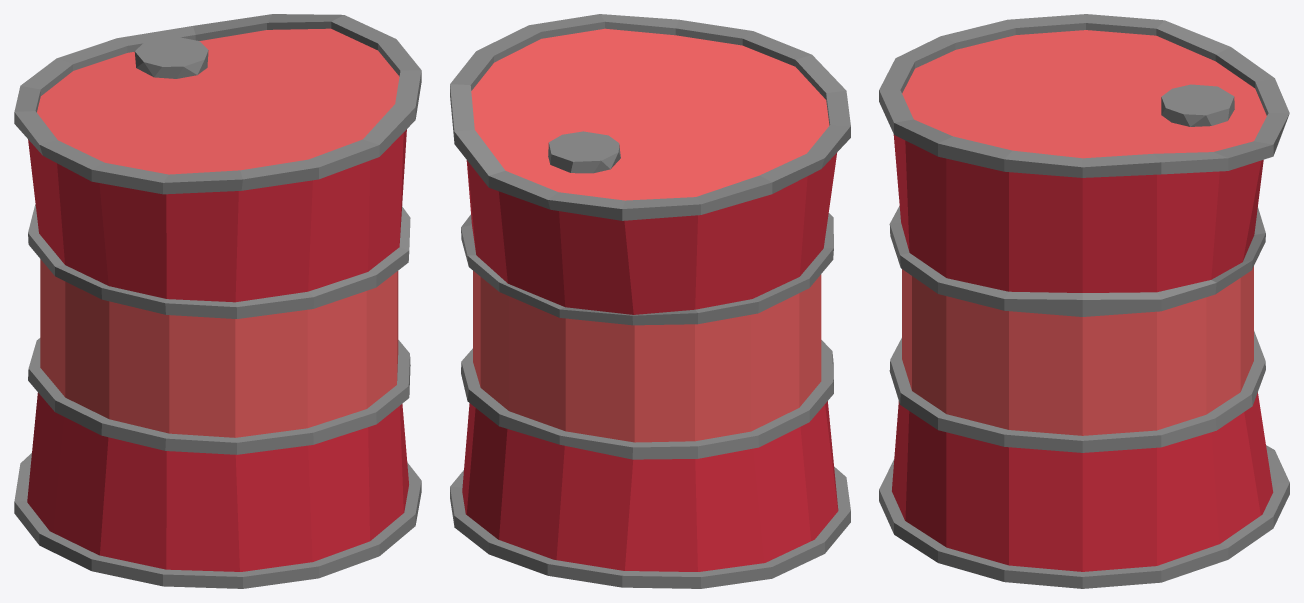
File: Barrel_3_3.fbx
3 views of the same model, side by side, from view 1: azimuth 30°, elevation 25°; view 2: azimuth 150°, elevation 25°; view 3: azimuth 270°, elevation 25° (orthographic).
Visible parts, largest first — view 1: Barrel_3_3; view 2: Barrel_3_3; view 3: Barrel_3_3.
Boxes of the visible parts, <box> form: Barrel_3_3: <box>14,14,421,588</box>; Barrel_3_3: <box>450,14,850,588</box>; Barrel_3_3: <box>879,14,1289,588</box>.
Bounding box in the file's own units: 78.54 × 89.32 × 78.54.
